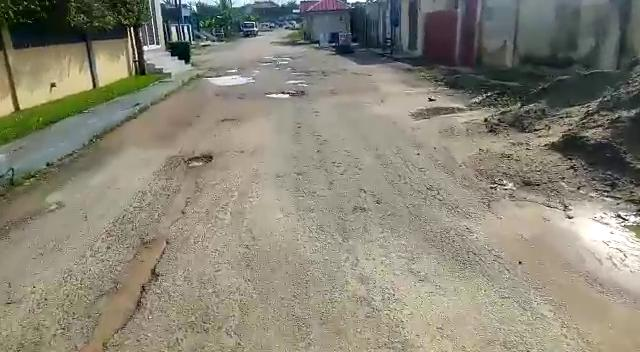pothole: (203, 73, 255, 85), (186, 153, 212, 167), (264, 90, 301, 97)
